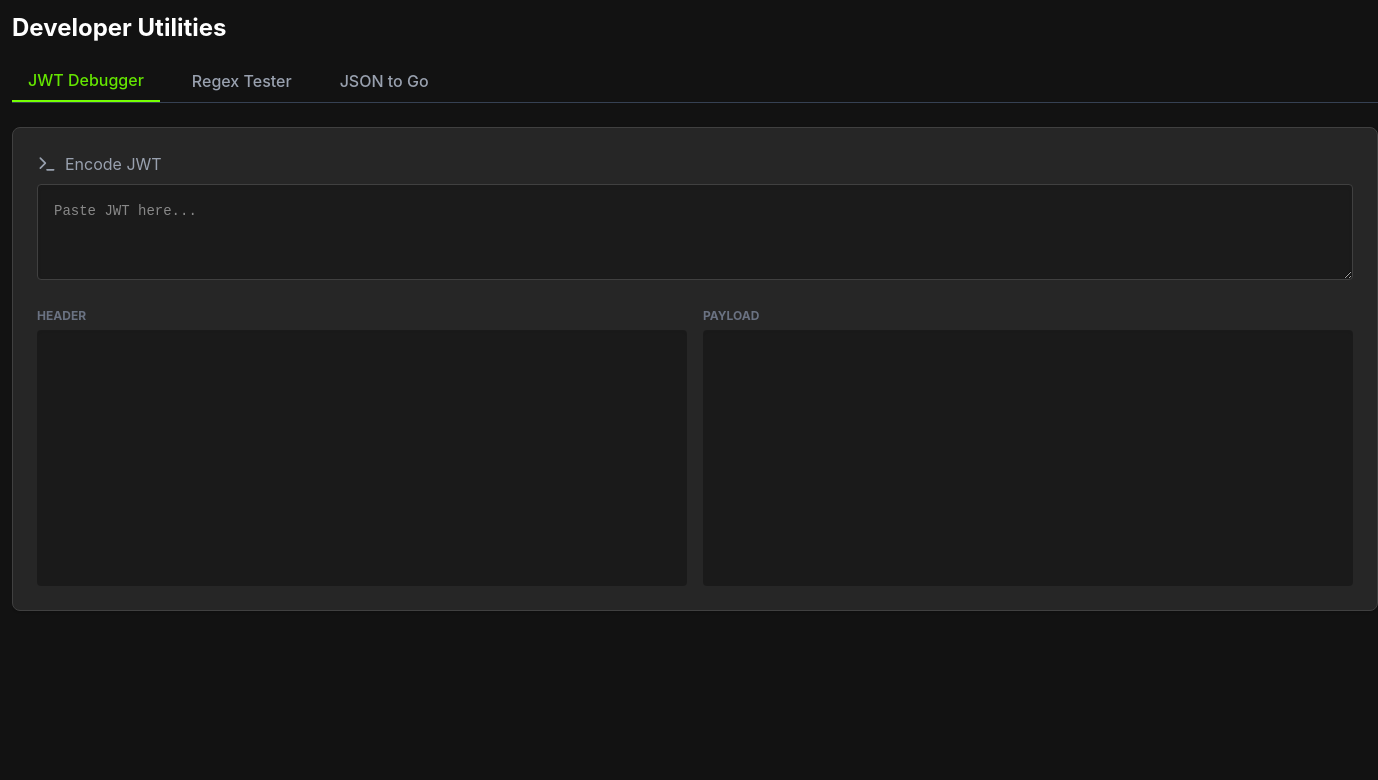
Test case: DevTools › handles Regex testing
// Switch to Regex Tester tab
Click the button "Regex Tester" at (242, 85), box 176,68 -> 308,102
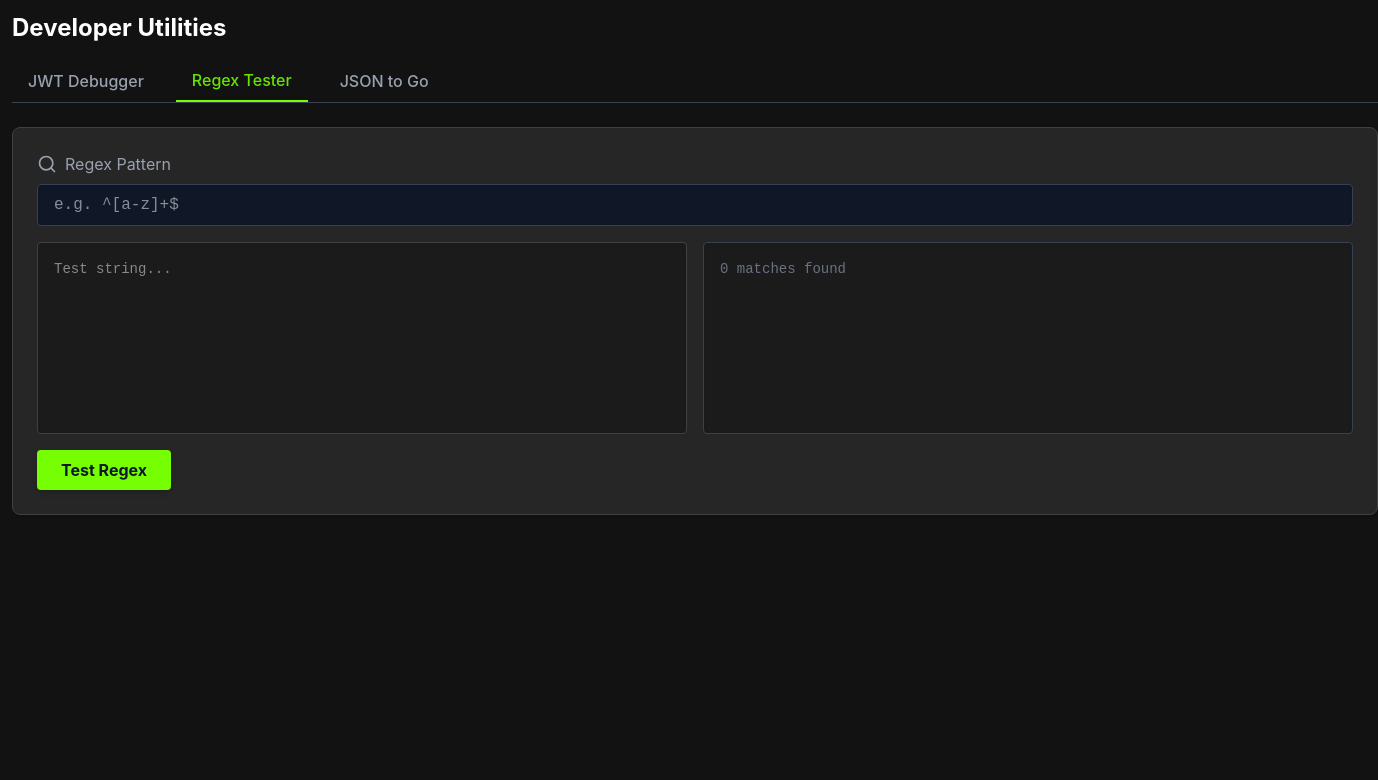
Type "h.*o" into the field with placeholder "e.g. ^[a-z]+$" at (695, 205), box 37,184 -> 1353,226
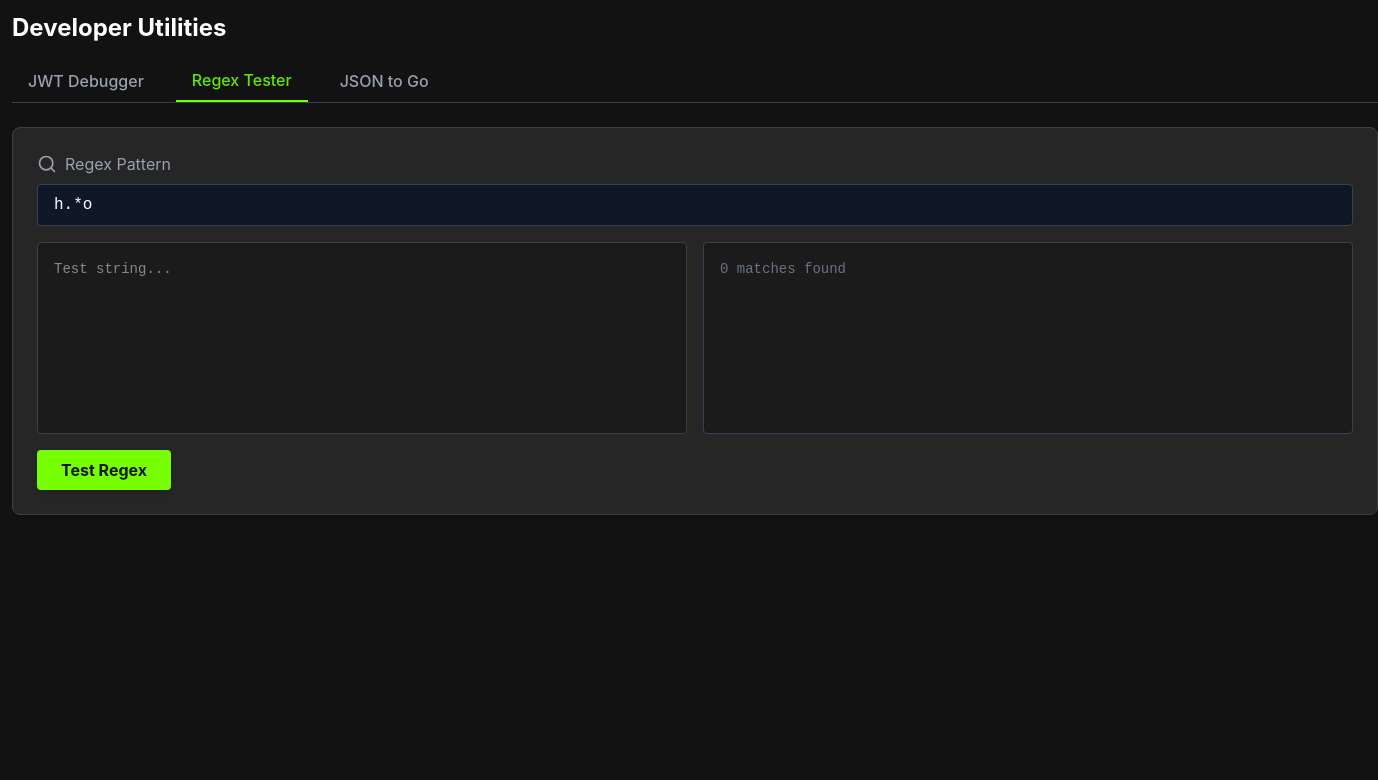
Type "hello" into the text box with placeholder "Test string..." at (362, 338), box 37,242 -> 687,434
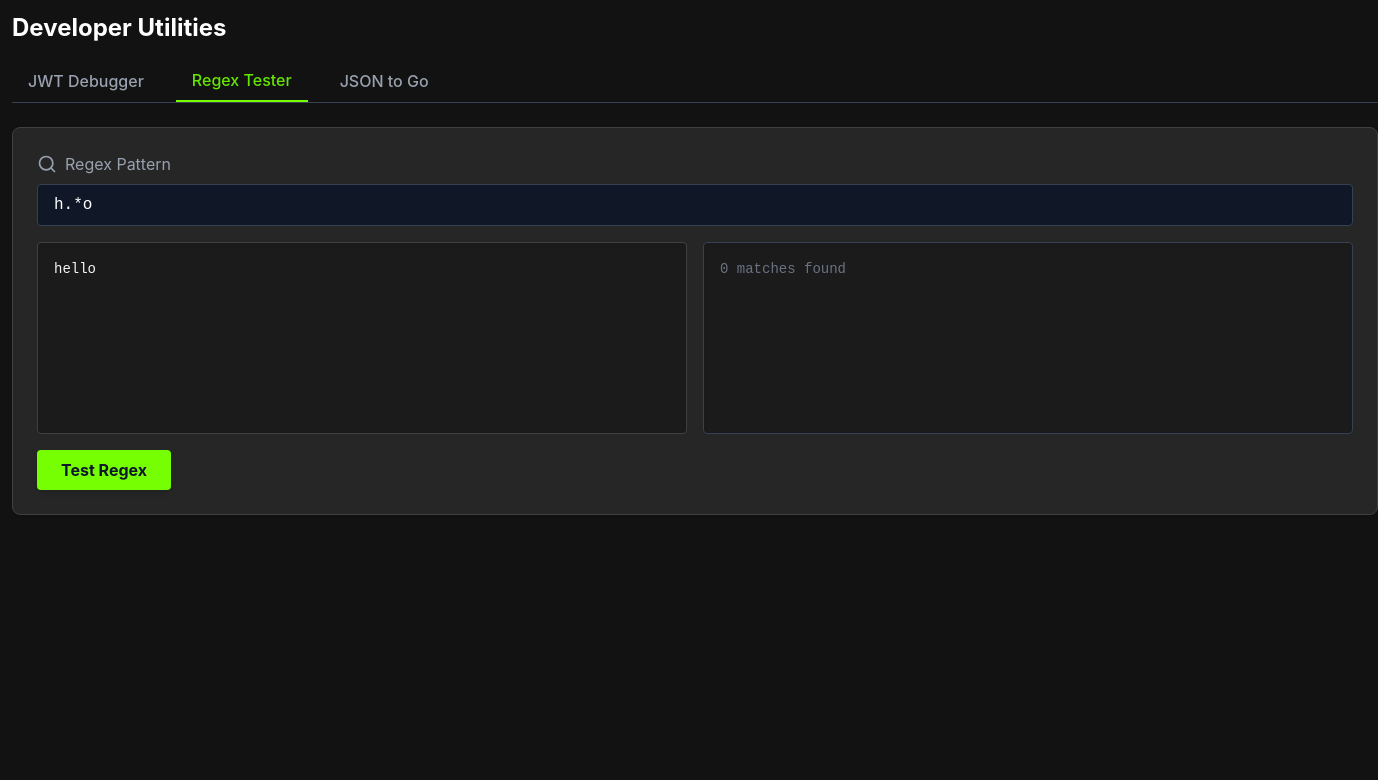
Click the button "Test Regex" at (104, 470), box 37,450 -> 171,490
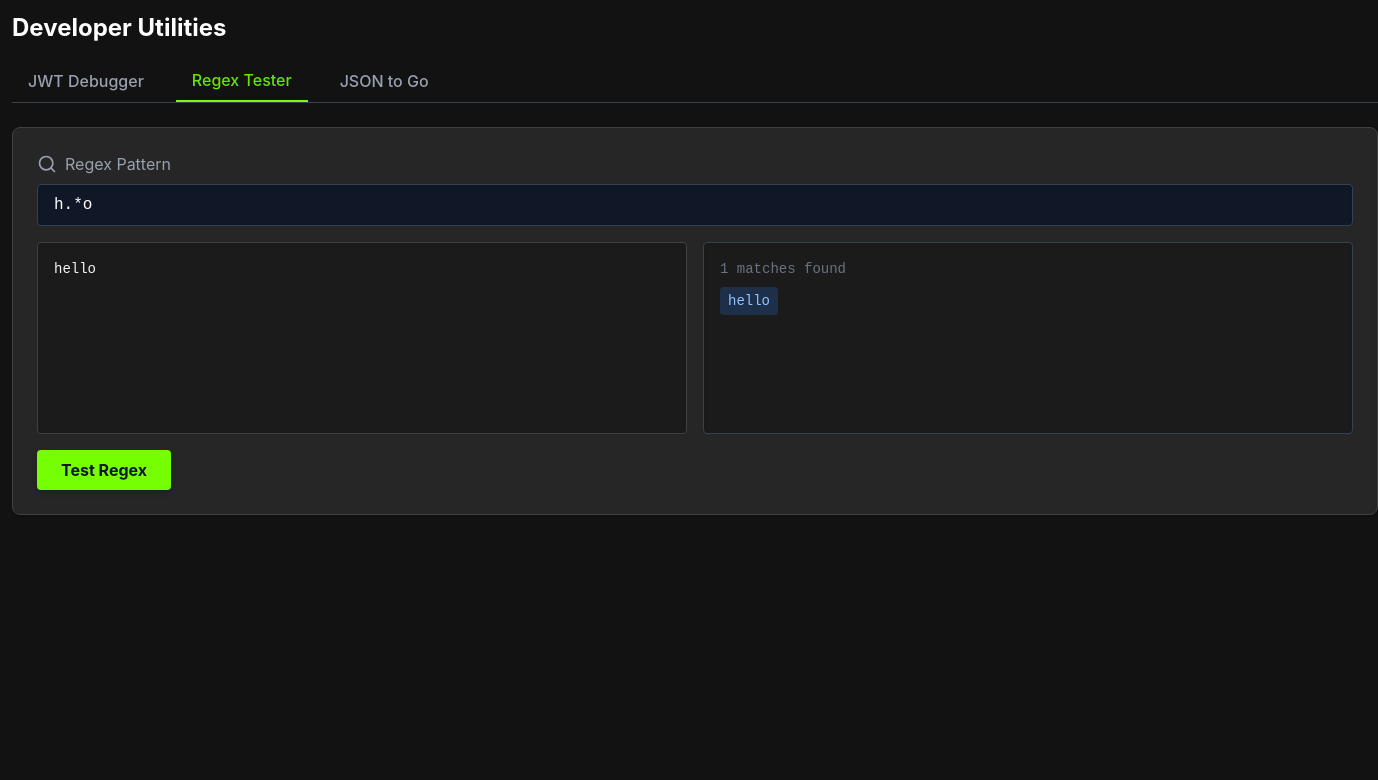
expect the text "1 matches found" is shown: met, box 720,261 -> 846,277
